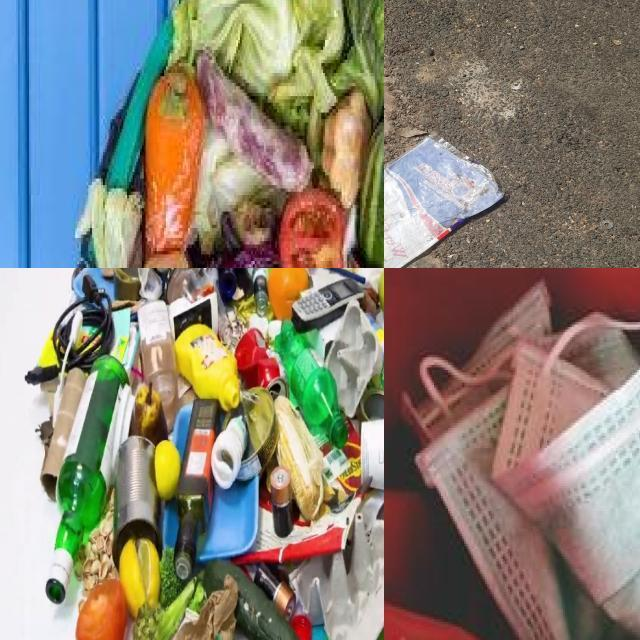Background: (384, 0, 640, 268)
Disposable: (404, 283, 640, 640)
E_waste: (26, 276, 115, 385), (292, 278, 364, 332), (211, 415, 248, 488), (255, 564, 296, 621), (270, 466, 293, 537)
Garbage: (26, 268, 384, 640), (388, 268, 640, 640), (91, 0, 384, 268)
Glass_bottle: (46, 354, 128, 603), (174, 400, 219, 580), (194, 268, 235, 349), (247, 268, 272, 315), (218, 268, 237, 303)
Plastic: (197, 477, 259, 562), (172, 403, 192, 458), (161, 498, 179, 547)
Plastic_Bag: (384, 137, 503, 268)
Plastic_Container: (174, 325, 240, 410), (138, 300, 178, 405), (113, 268, 141, 300)
Plastic_Straw: (325, 268, 366, 285)
Plastic_bottle: (274, 320, 348, 447)
Plastic_wraper: (238, 422, 362, 563)
Tin_box: (237, 386, 278, 481), (360, 391, 384, 420)
can: (235, 327, 286, 394)
